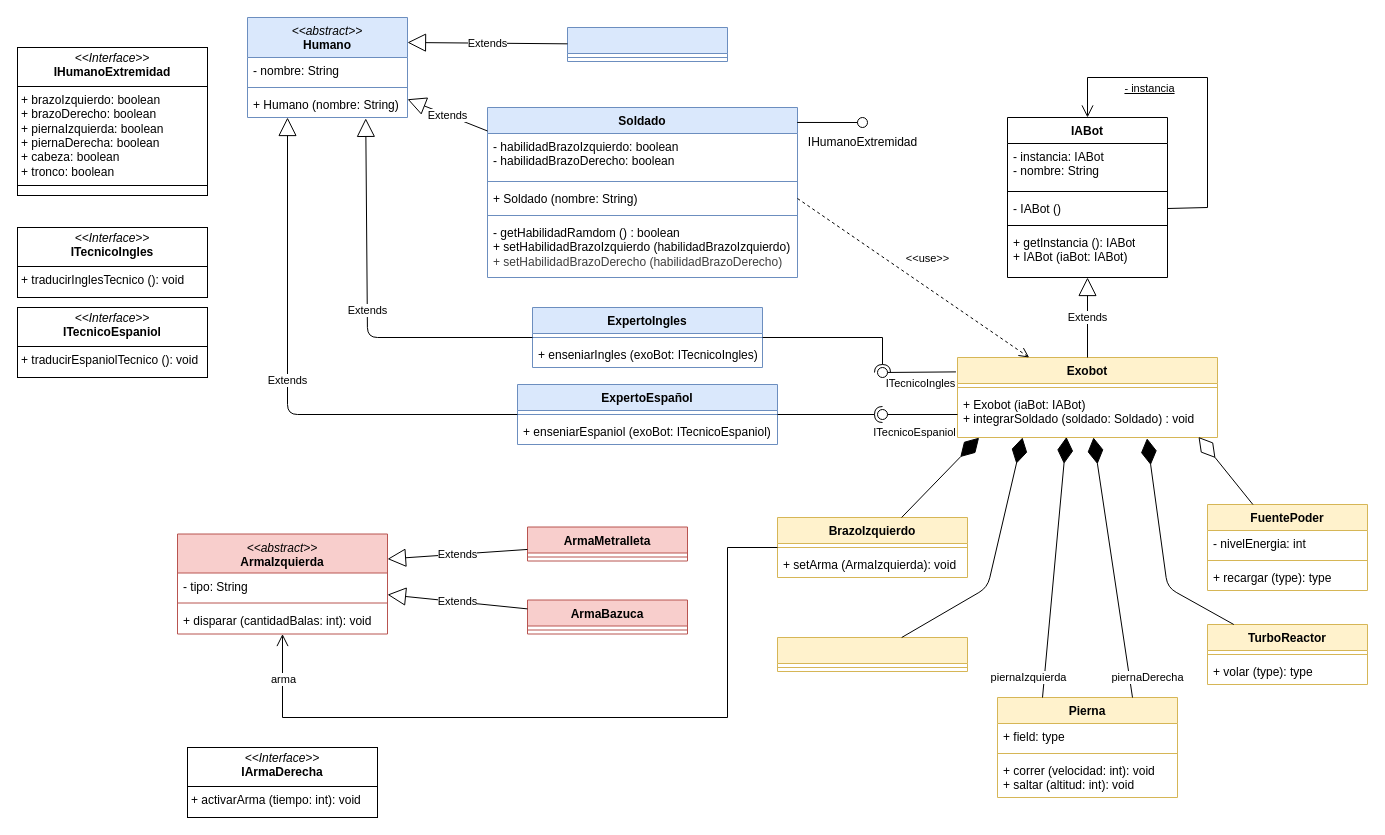
This 1385x835 diagram has some shape labels left out. The centre of each missing label's shape, as x and y in pixels:
BrazoDerecho: (x=872, y=654)
Mecatronico: (x=647, y=44)
